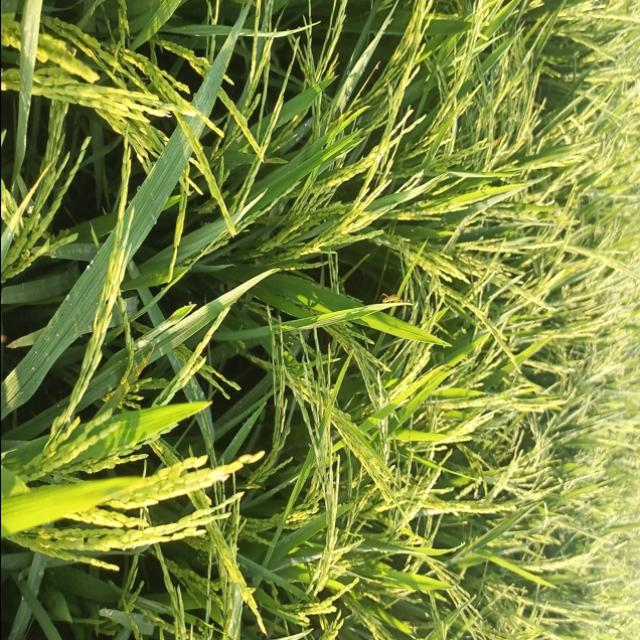green leaf hopper: (373, 288, 410, 306)
